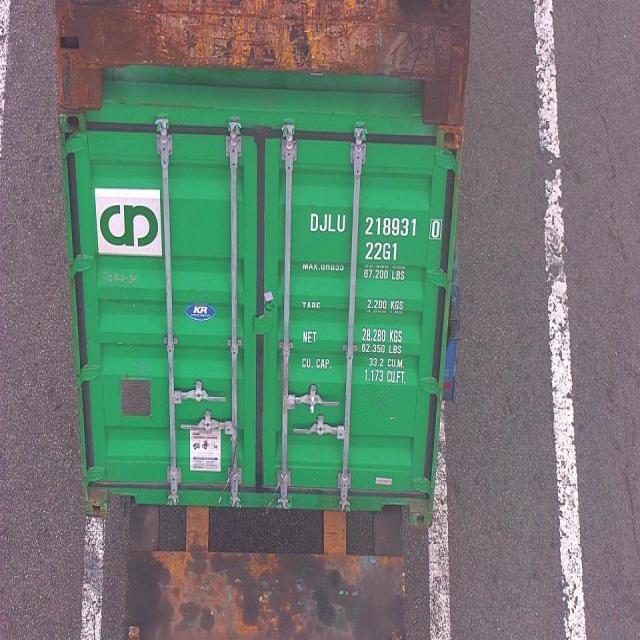ISO: (362, 241, 398, 261)
container_number: (308, 215, 440, 238)
